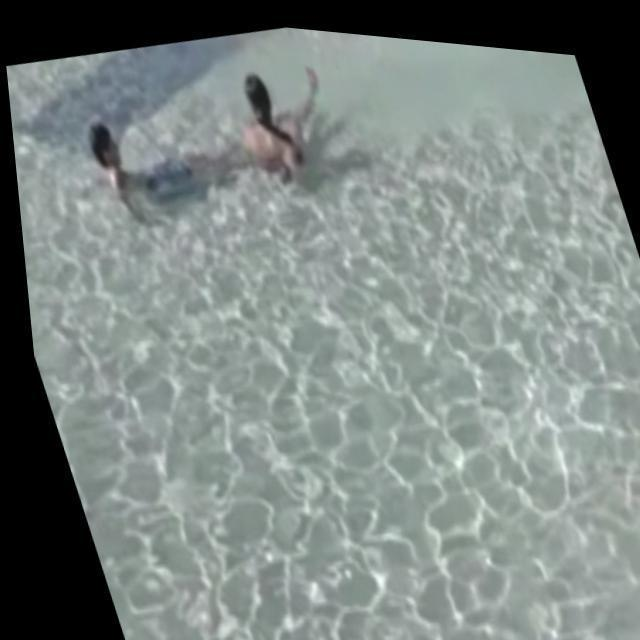swimming: (214, 65, 348, 173), (85, 118, 209, 212)
